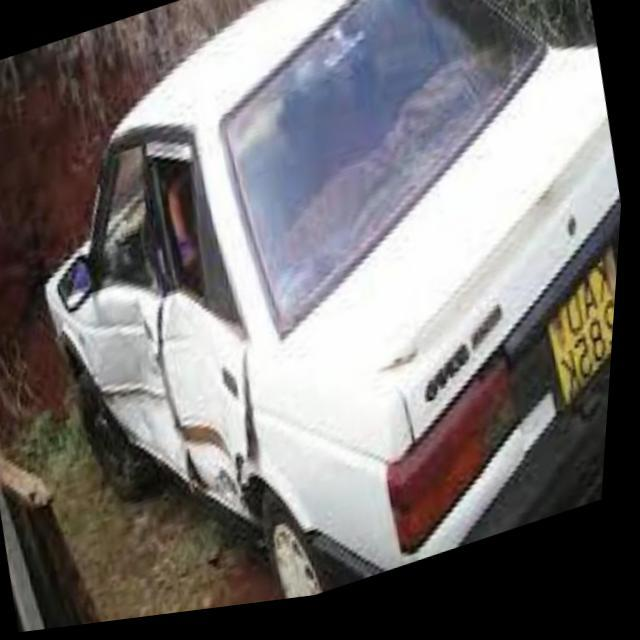dent: (65, 133, 257, 513)
